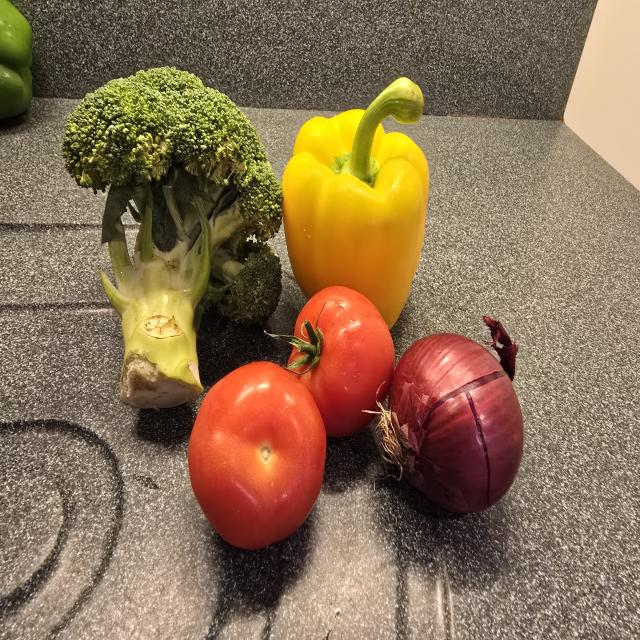Bell Pepper: (282, 79, 429, 327)
Broccoli: (63, 67, 282, 408)
Onion: (375, 333, 523, 512)
Tomato: (188, 362, 326, 549), (286, 286, 395, 437)
